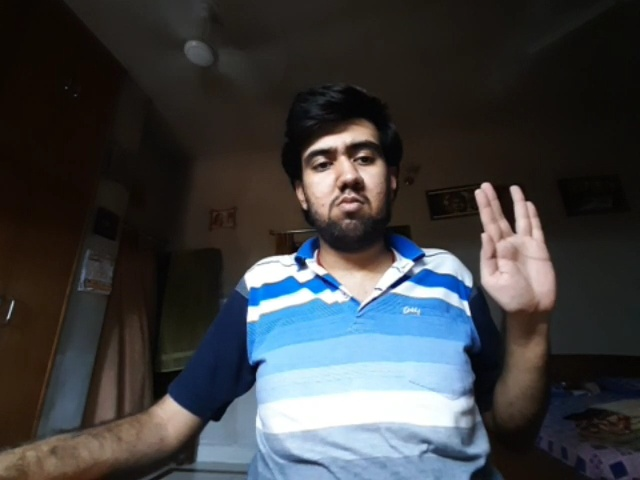LiveLong: (474, 181, 559, 312)
